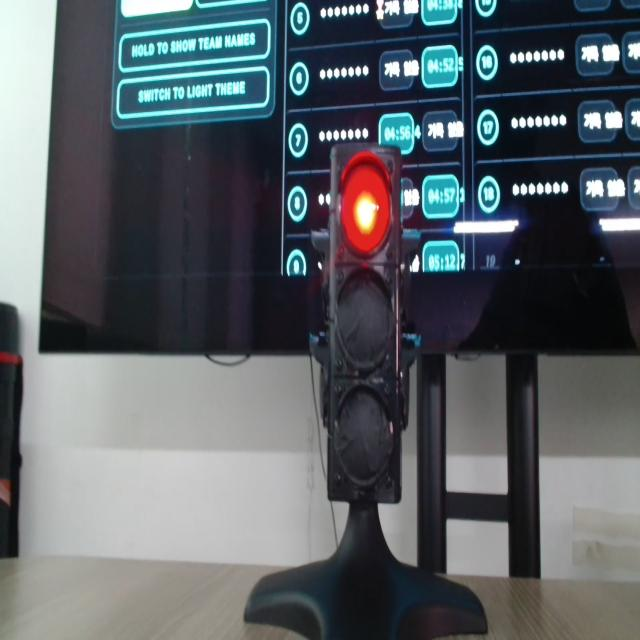red_light: (341, 152, 390, 255)
